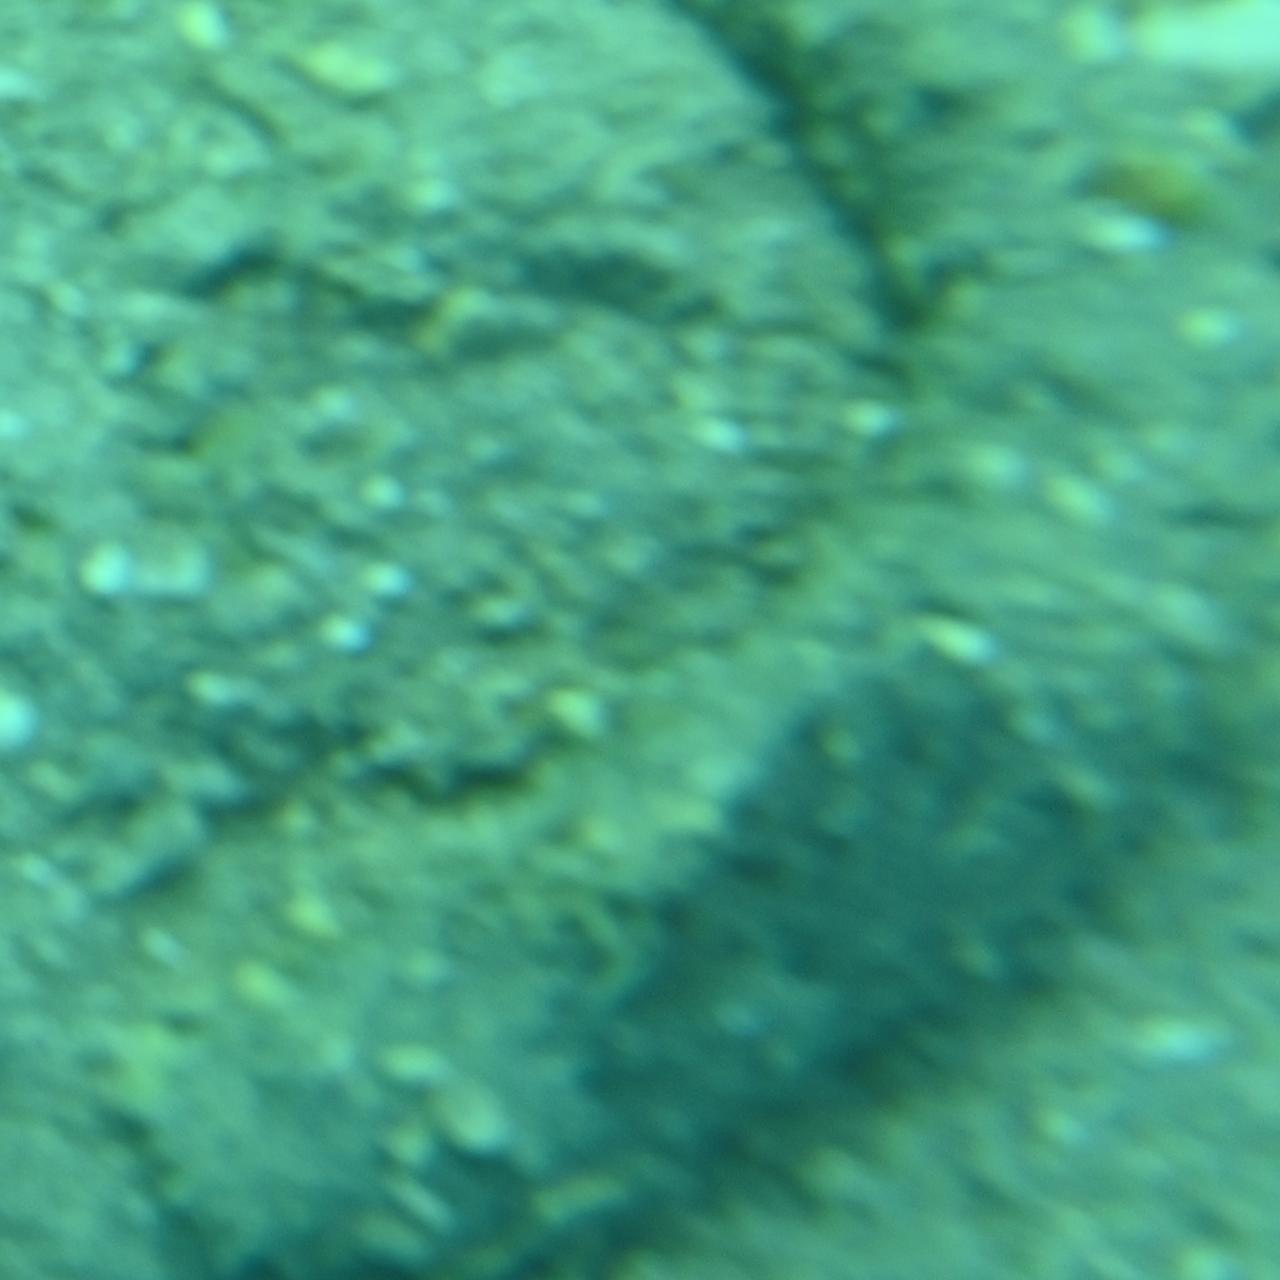Holothuria tubulosa: (110, 0, 1239, 1280)
